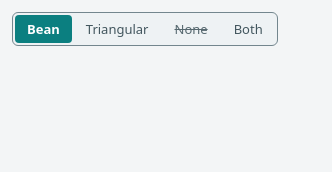
Test: SegmentedControl › click selects
The width and height of the screenshot is (332, 172).
Click the radio button labelled "Triangular".
click(117, 29)  # box [74,15,160,43]
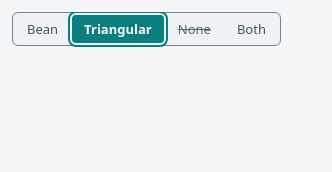
Expected: the radio button labelled "Triangular" is checked, [72,15,164,43]
Expected: the radio button labelled "Bean" has attribute tabindex="-1", [15,15,70,43]
